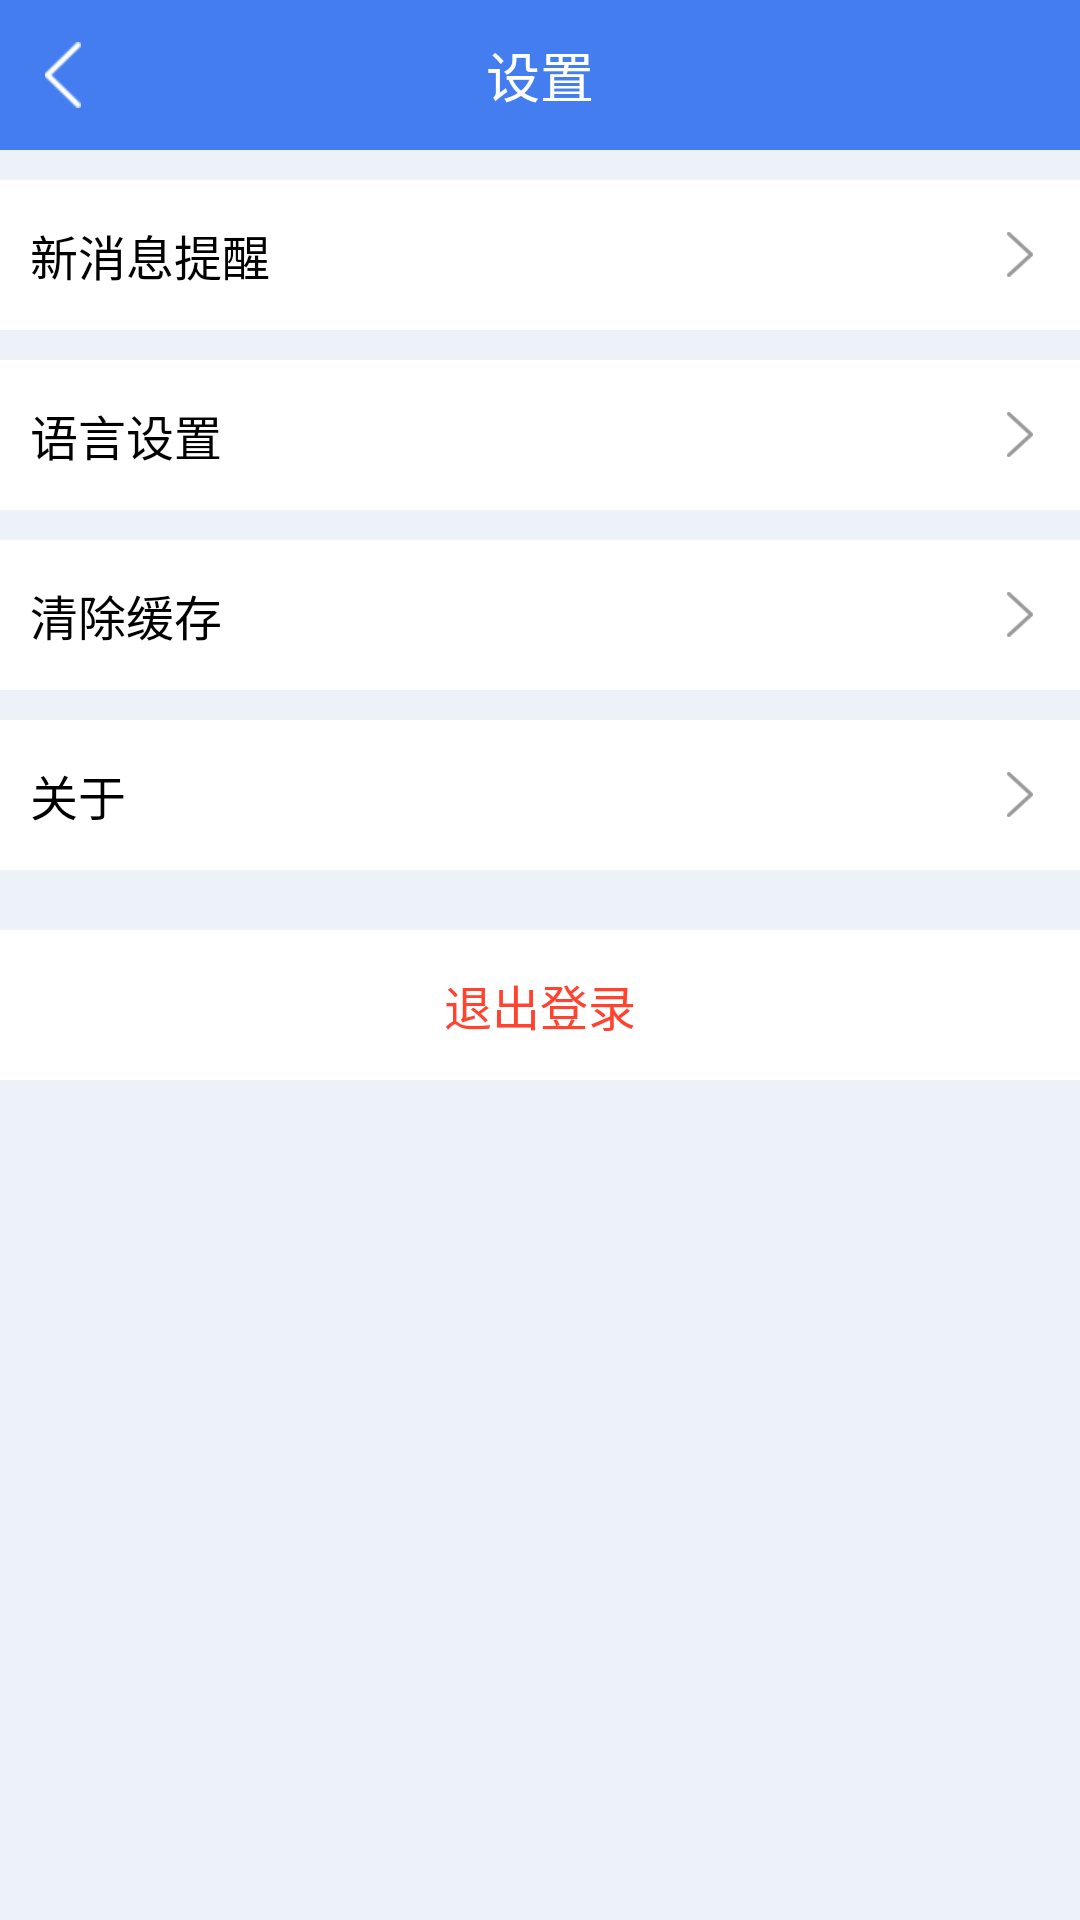

Icon click points for this 1080w x 1920h phone screenshot, format (x,y):
right arrow: (1020,254), (1020,434), (1020,614), (1020,794)
